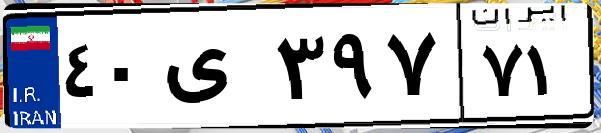0: (110, 28, 158, 98)
1: (525, 38, 570, 115)
3: (270, 28, 330, 110)
4: (57, 26, 110, 100)
7: (385, 28, 445, 110), (475, 38, 525, 113)
9: (330, 28, 385, 110)
ی: (158, 20, 270, 120)
